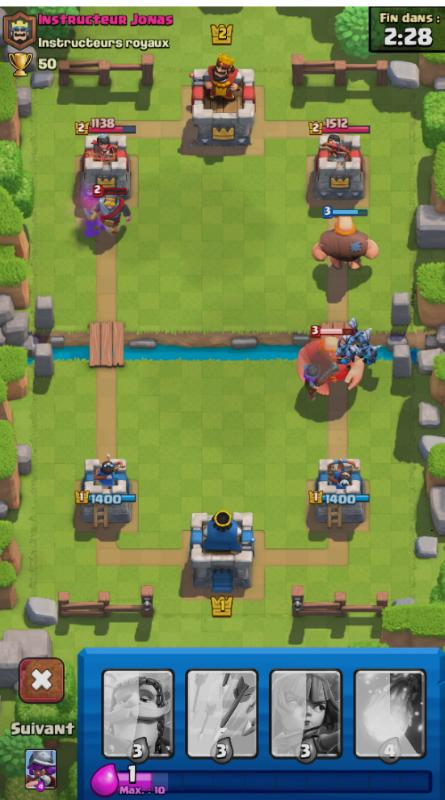chevalier: (84, 190, 134, 239)
gargouille: (343, 319, 373, 351), (335, 336, 357, 368), (357, 340, 383, 367)
geant: (311, 207, 383, 275), (295, 326, 361, 399)
mousquetaire: (298, 357, 337, 397)
